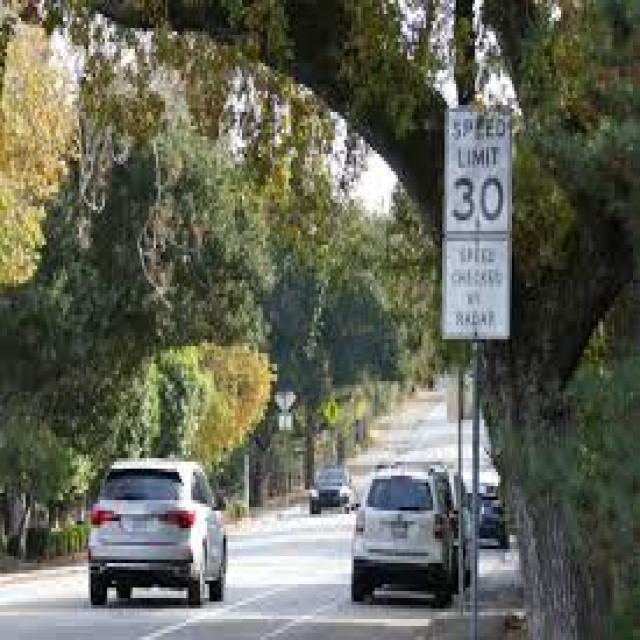Speed Limit Signs: (446, 87, 515, 234)
